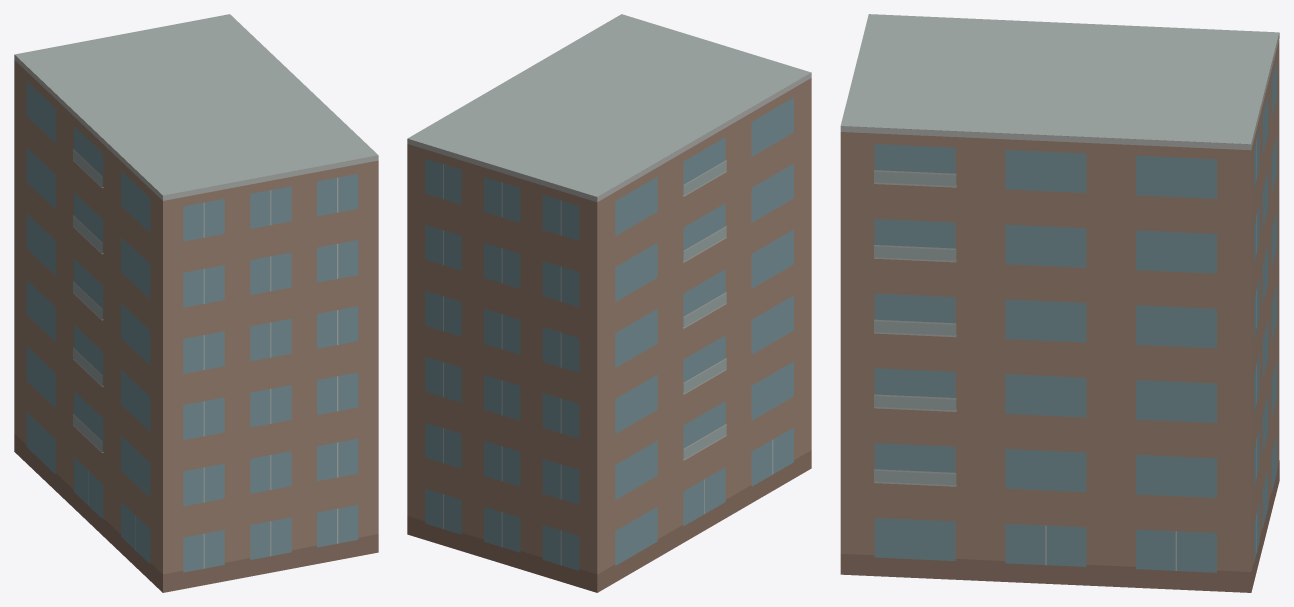
File: survey-upis-32957409.glb
3 renders of one model, left to right at view 1: azimuth 30°, elevation 25°; view 2: azimuth 150°, elevation 25°; view 3: azimuth 270°, elevation 25°, orthographic. The views are drawn at different scales.
Parts seen in each view (by area): view 1: survey-upis-32957409.tmp; view 2: survey-upis-32957409.tmp; view 3: survey-upis-32957409.tmp.
Boxes of the visible parts, <box> form: survey-upis-32957409.tmp: <box>14,14,378,592</box>; survey-upis-32957409.tmp: <box>407,14,811,592</box>; survey-upis-32957409.tmp: <box>840,14,1279,592</box>.
Bounding box in the file's own units: 11.4 × 18.3 × 16.23.
